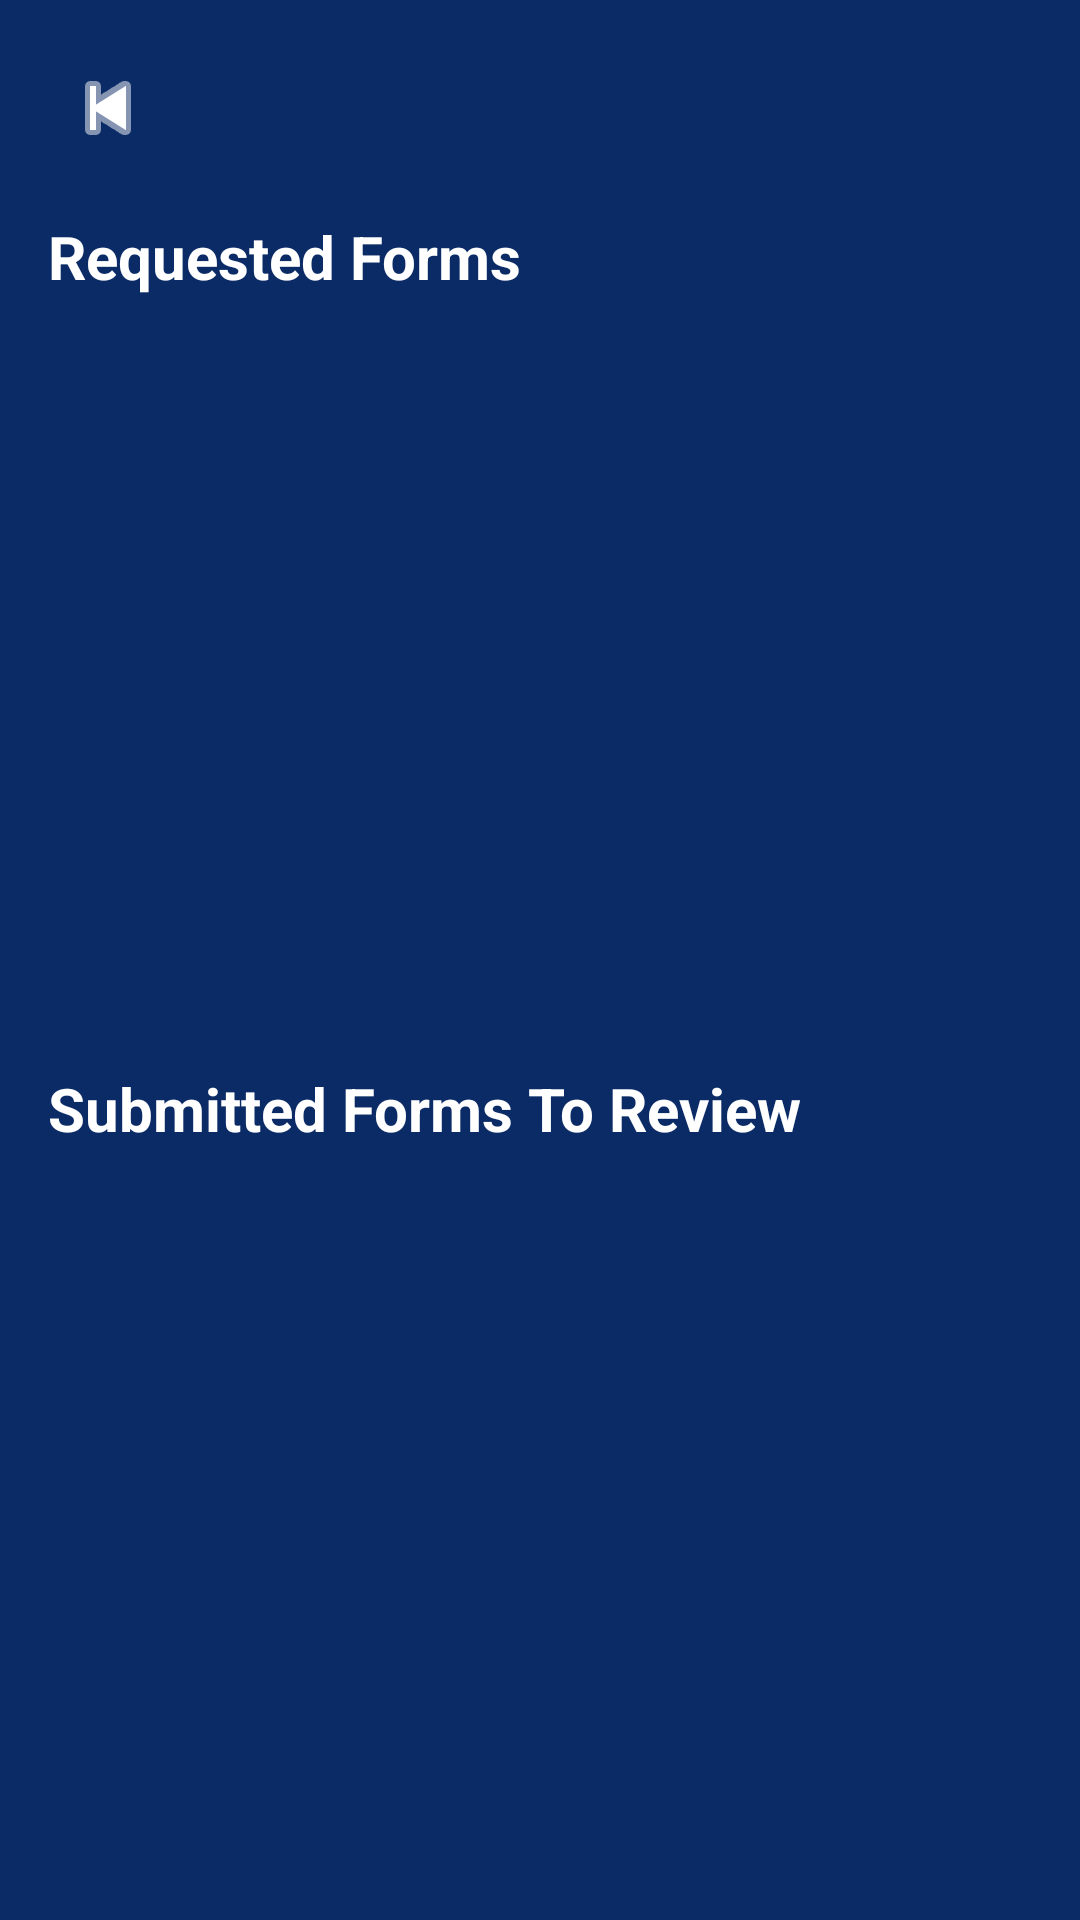

Icons on this 1080*1920 Android screen, each with its box as (x1, y1, x2, y2):
Back: (85, 81, 131, 135)
